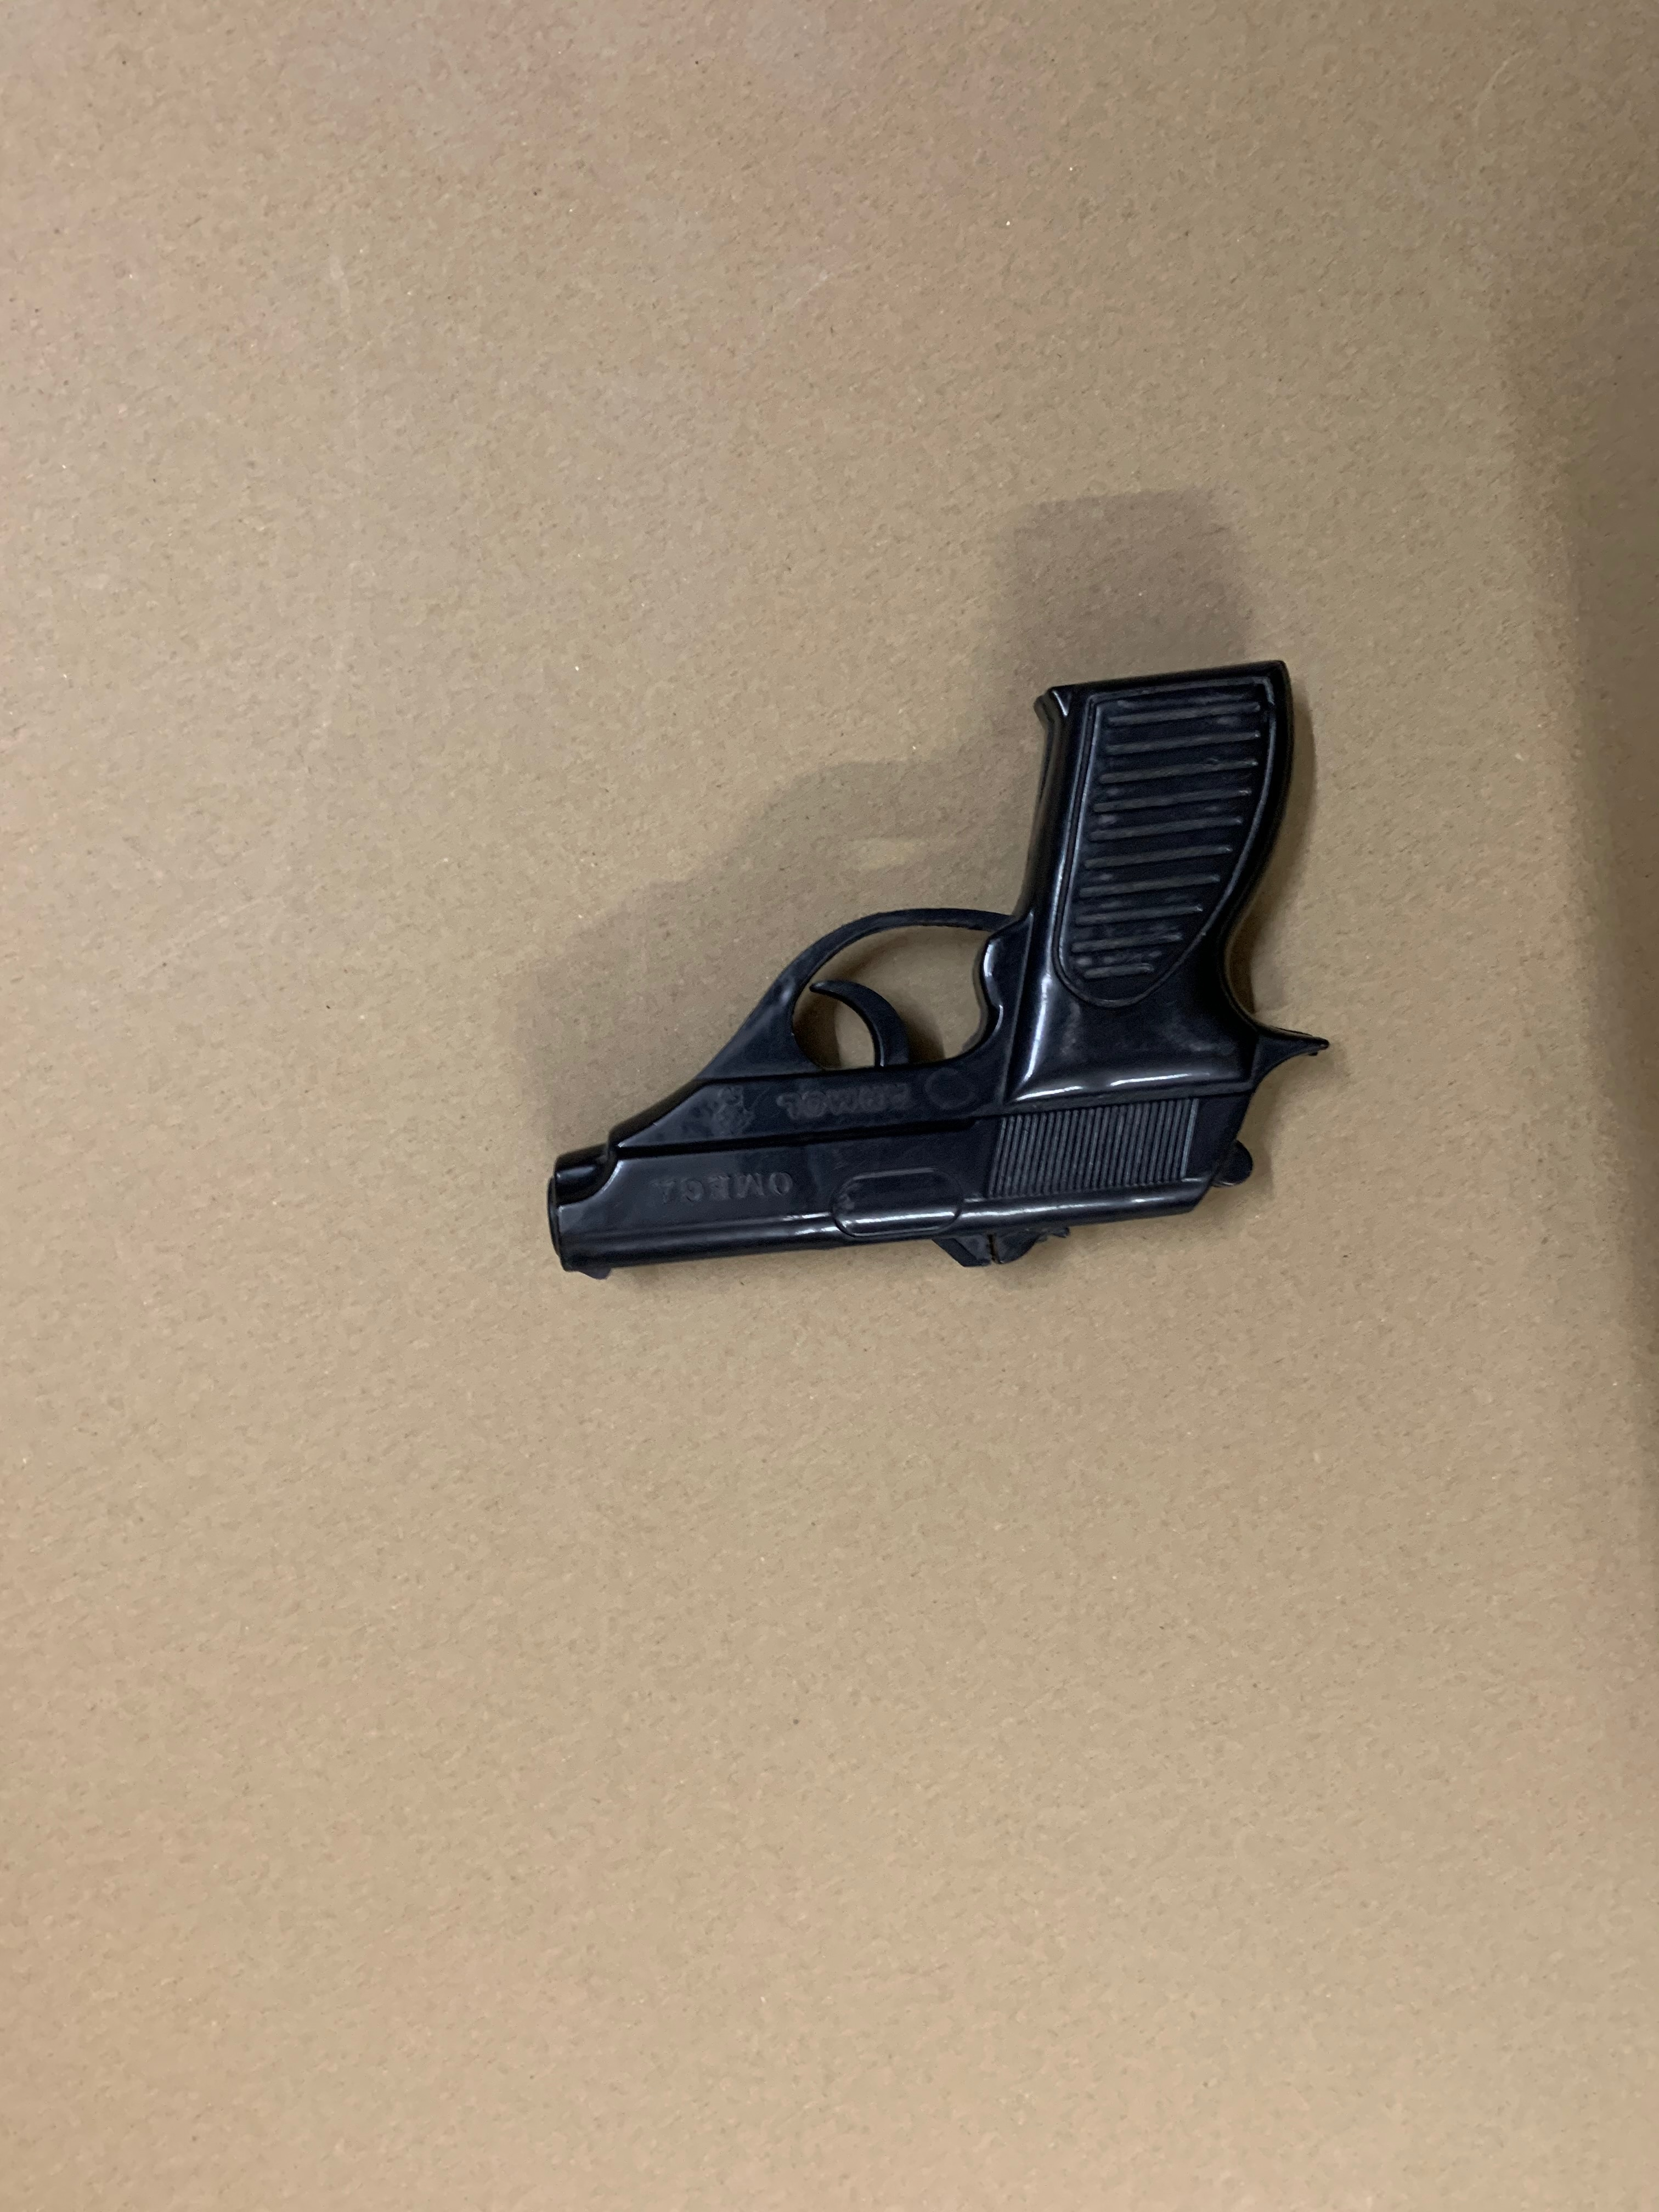gun: (533, 650, 1330, 1301)
